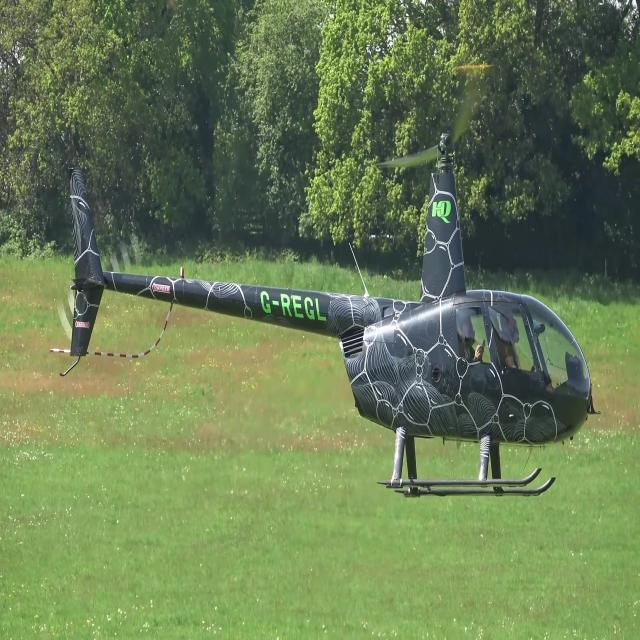CIV_HELO: (68, 131, 598, 502)
